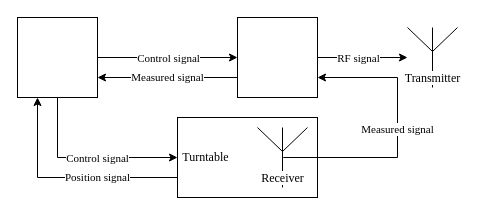
Some shapes in this 478 by 215 pixel diagram are drawn without their labels. Here are the shapes that lost their labels. From the top down, the centre of each, then its label:
(x=57, y=57): Computer
(x=277, y=57): VNA
